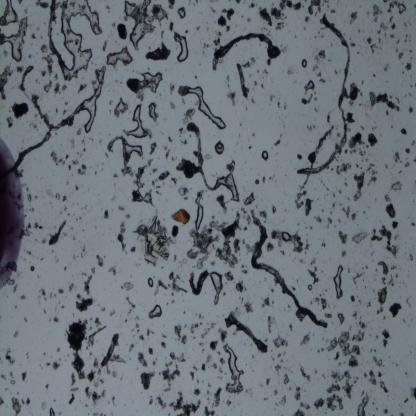Air bubble: (61, 0, 100, 79), (184, 84, 226, 129), (82, 66, 107, 132), (1, 16, 27, 62), (216, 159, 242, 204), (223, 343, 245, 393), (125, 104, 150, 138), (129, 20, 150, 48), (207, 270, 224, 304), (172, 33, 190, 61), (106, 47, 133, 64), (332, 263, 344, 300), (141, 72, 163, 92), (194, 188, 204, 232), (280, 228, 300, 248), (3, 1, 19, 26), (126, 142, 145, 157), (114, 96, 128, 113), (147, 103, 160, 121), (147, 304, 162, 318), (123, 1, 136, 15), (214, 139, 225, 154), (177, 5, 186, 20), (260, 150, 269, 162), (300, 58, 308, 69), (146, 276, 153, 288)
Background material: (85, 332, 121, 404), (326, 318, 368, 370), (132, 214, 172, 266), (213, 211, 242, 268), (308, 112, 336, 167), (314, 370, 352, 410), (69, 316, 89, 387), (186, 227, 216, 268), (130, 164, 156, 206), (364, 353, 389, 395), (106, 132, 131, 174), (160, 352, 184, 390), (372, 225, 400, 257), (367, 90, 400, 115), (136, 349, 156, 390), (155, 273, 187, 295), (174, 391, 202, 416), (76, 274, 94, 312), (42, 220, 66, 248), (293, 189, 314, 217), (204, 384, 223, 414), (176, 156, 200, 179), (124, 75, 145, 101), (294, 384, 311, 416), (191, 317, 216, 338), (187, 269, 207, 295), (144, 44, 173, 61), (313, 50, 327, 85), (170, 324, 191, 346), (8, 394, 31, 414), (22, 220, 43, 241), (171, 206, 192, 227), (86, 320, 105, 343), (352, 171, 366, 202), (216, 6, 234, 30), (348, 133, 366, 157), (148, 4, 168, 25), (375, 285, 389, 314), (22, 184, 34, 216), (0, 65, 10, 103), (239, 206, 254, 231), (365, 161, 379, 187), (38, 54, 53, 78), (135, 1, 152, 22), (268, 222, 284, 244), (344, 83, 361, 103), (385, 1, 407, 16), (271, 7, 284, 32), (10, 101, 28, 119), (216, 189, 228, 216), (384, 193, 396, 220), (305, 267, 319, 290), (50, 151, 70, 167), (3, 347, 18, 368), (279, 0, 304, 12), (259, 8, 274, 28), (358, 389, 369, 416), (118, 221, 128, 250), (307, 0, 323, 18), (379, 16, 396, 32), (388, 300, 403, 318), (239, 235, 253, 254), (376, 259, 390, 278), (350, 270, 366, 286), (134, 325, 151, 340), (43, 360, 61, 374), (224, 88, 238, 106), (190, 363, 202, 383), (266, 312, 276, 336), (243, 191, 257, 208), (299, 365, 312, 383), (155, 392, 168, 410), (236, 256, 249, 274), (366, 36, 378, 55), (176, 125, 188, 144), (212, 355, 224, 374), (181, 107, 196, 122), (273, 334, 289, 348), (334, 162, 351, 175), (201, 354, 213, 372), (381, 327, 391, 348), (366, 131, 379, 147), (41, 76, 53, 93), (117, 22, 128, 40), (206, 337, 220, 351), (302, 80, 316, 94), (270, 43, 282, 59), (242, 56, 258, 68), (372, 3, 382, 22), (263, 239, 276, 253), (352, 231, 367, 243), (157, 170, 172, 182), (219, 326, 229, 344), (33, 0, 51, 10), (76, 242, 87, 258), (4, 112, 14, 129), (54, 190, 67, 203), (18, 367, 29, 382), (101, 204, 110, 222), (328, 200, 338, 216), (12, 62, 25, 74), (54, 82, 67, 94), (390, 181, 403, 193), (76, 163, 88, 176), (221, 267, 232, 281), (171, 223, 182, 237), (350, 10, 360, 25), (300, 94, 315, 104), (213, 30, 221, 48), (5, 373, 17, 385), (337, 231, 349, 243), (273, 362, 285, 374), (314, 343, 326, 355), (319, 296, 328, 312), (126, 296, 136, 310), (235, 280, 245, 294), (381, 276, 395, 286), (243, 298, 253, 312), (108, 263, 118, 276), (346, 110, 355, 124), (281, 374, 292, 385), (54, 341, 64, 353), (396, 50, 406, 62), (94, 254, 104, 266), (123, 280, 133, 292), (276, 100, 288, 110), (192, 385, 202, 397), (100, 38, 108, 53), (36, 288, 48, 298), (149, 143, 159, 155), (152, 182, 160, 196), (342, 204, 350, 218), (408, 386, 416, 400), (178, 186, 189, 196), (305, 123, 315, 134), (38, 44, 48, 55), (286, 65, 296, 76), (77, 82, 88, 92), (300, 335, 311, 345), (0, 392, 6, 410), (376, 37, 384, 50), (66, 282, 76, 292), (399, 127, 409, 137), (402, 32, 412, 42), (322, 310, 332, 320), (12, 327, 21, 338), (262, 297, 271, 308), (338, 312, 345, 326), (282, 41, 289, 55), (129, 343, 137, 355), (393, 151, 401, 163), (404, 60, 412, 72), (88, 410, 104, 416), (165, 146, 171, 161), (66, 394, 76, 403), (267, 93, 276, 103), (405, 296, 414, 306), (272, 138, 282, 147), (384, 62, 392, 73), (391, 219, 399, 230), (169, 82, 176, 94), (166, 132, 173, 144), (351, 210, 358, 222), (167, 20, 174, 32), (79, 145, 88, 154), (57, 285, 65, 295), (329, 68, 339, 76), (168, 0, 176, 10), (47, 406, 55, 416), (108, 310, 118, 318), (407, 104, 414, 115), (52, 315, 59, 326), (118, 205, 126, 214), (404, 146, 412, 155), (352, 309, 358, 321), (340, 249, 348, 258), (40, 400, 46, 412), (28, 264, 36, 273), (352, 373, 358, 385), (266, 57, 273, 67), (253, 177, 260, 187), (270, 205, 277, 215), (278, 246, 285, 256), (310, 253, 316, 264), (404, 158, 410, 169), (161, 341, 169, 349), (388, 32, 396, 40), (350, 41, 358, 49), (390, 262, 398, 270), (355, 163, 364, 170), (403, 395, 410, 404), (324, 0, 330, 10), (281, 396, 286, 408), (384, 405, 390, 415), (297, 152, 303, 162), (327, 215, 332, 227), (266, 376, 272, 386), (127, 245, 134, 253), (379, 312, 386, 320), (124, 213, 132, 220), (288, 324, 295, 332), (272, 388, 279, 396), (329, 8, 337, 15), (112, 172, 120, 179), (350, 294, 357, 302), (148, 394, 153, 405), (384, 107, 390, 116), (31, 31, 37, 40), (364, 299, 370, 308), (404, 91, 413, 97), (264, 68, 269, 78), (361, 155, 368, 162), (90, 266, 96, 274), (74, 184, 80, 192), (252, 78, 258, 86), (368, 347, 376, 353), (408, 253, 414, 261), (330, 190, 336, 198), (304, 15, 310, 23), (227, 400, 232, 409), (162, 331, 167, 340), (300, 26, 307, 32), (292, 283, 298, 290), (370, 124, 376, 131), (62, 264, 67, 272), (102, 306, 107, 314), (406, 48, 414, 53), (362, 265, 370, 270), (171, 100, 175, 110), (374, 334, 380, 340), (361, 123, 365, 132), (268, 174, 274, 180), (304, 243, 308, 252), (320, 242, 326, 248), (314, 194, 321, 199), (409, 221, 416, 226), (398, 166, 402, 174), (411, 139, 415, 147), (262, 174, 265, 184), (44, 383, 49, 389), (318, 218, 324, 223), (336, 189, 342, 194), (394, 272, 399, 278), (390, 123, 394, 130), (384, 165, 389, 170), (251, 132, 256, 137), (404, 371, 409, 376), (247, 145, 252, 150), (399, 411, 404, 416), (320, 35, 325, 40), (380, 0, 388, 3), (394, 38, 400, 42), (358, 103, 364, 107), (263, 397, 267, 403), (378, 29, 381, 36), (64, 110, 68, 115), (317, 30, 321, 35), (412, 157, 416, 162), (326, 188, 330, 193), (347, 268, 351, 273), (247, 72, 251, 77), (360, 92, 363, 98), (358, 30, 362, 34), (303, 0, 307, 4), (321, 208, 325, 212), (338, 219, 342, 223), (310, 226, 314, 230), (346, 181, 350, 185), (361, 210, 366, 213), (346, 194, 349, 199), (368, 12, 370, 18), (261, 84, 264, 88), (280, 133, 283, 137), (362, 80, 365, 84), (258, 68, 260, 74), (330, 166, 333, 170), (373, 74, 376, 78), (410, 84, 413, 88), (414, 82, 416, 87)
Cellulose filter fibre: (296, 13, 354, 176), (250, 218, 329, 330), (20, 65, 82, 130), (186, 122, 218, 193), (223, 313, 268, 354), (214, 32, 274, 60), (14, 132, 52, 168), (47, 1, 64, 64), (233, 62, 254, 102)
Diatom: (0, 16, 7, 28)
Pen: (0, 135, 25, 289)
